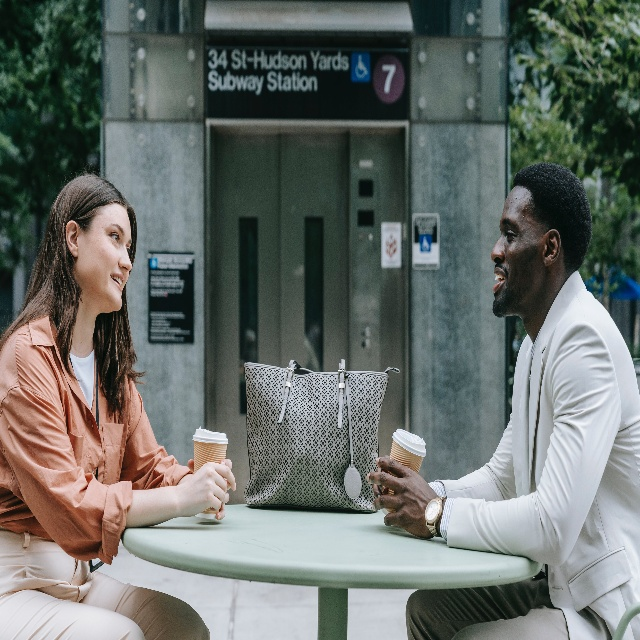Sin_guantes: (365, 458, 439, 541), (181, 460, 238, 518), (186, 456, 234, 522), (373, 455, 390, 499)
